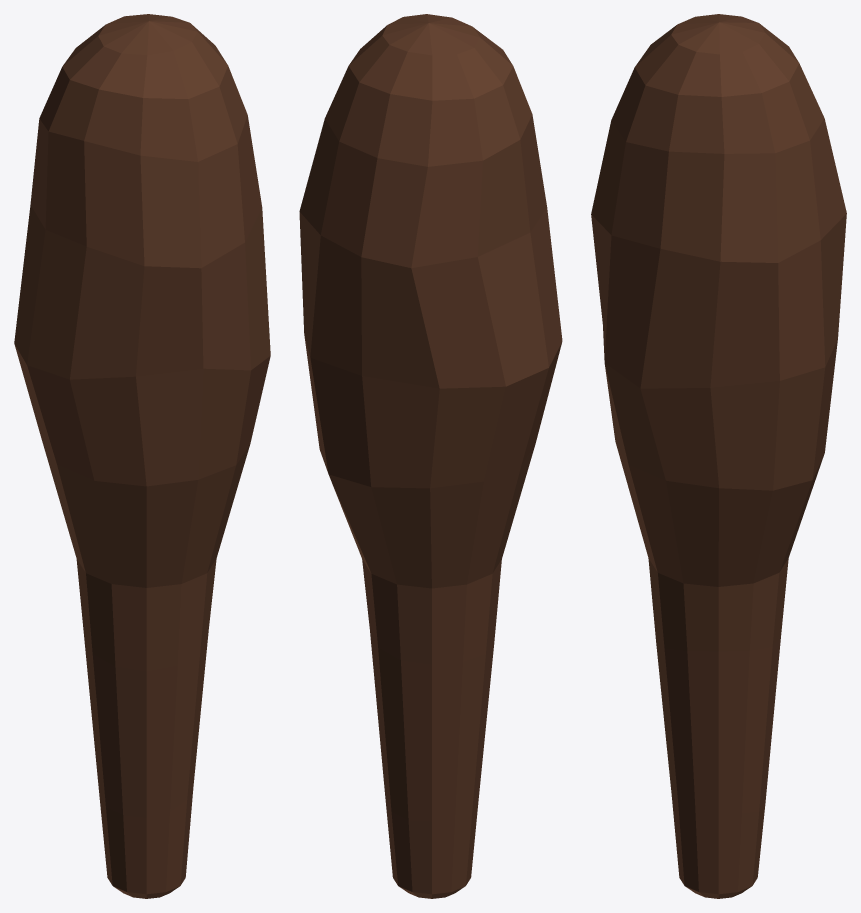
Rendered from Wooden Club.glb.
3 renders of one model, left to right at view 1: azimuth 30°, elevation 25°; view 2: azimuth 150°, elevation 25°; view 3: azimuth 270°, elevation 25°, orthographic.
Parts seen in each view (by area): view 1: Wooden Club; view 2: Wooden Club; view 3: Wooden Club.
Part boxes in pixels (x1,y1,x2,y2): Wooden Club: (14,14,270,898); Wooden Club: (299,14,562,898); Wooden Club: (591,14,846,898).
Bounding box in the file's own units: 26.3 × 95.71 × 25.6.
